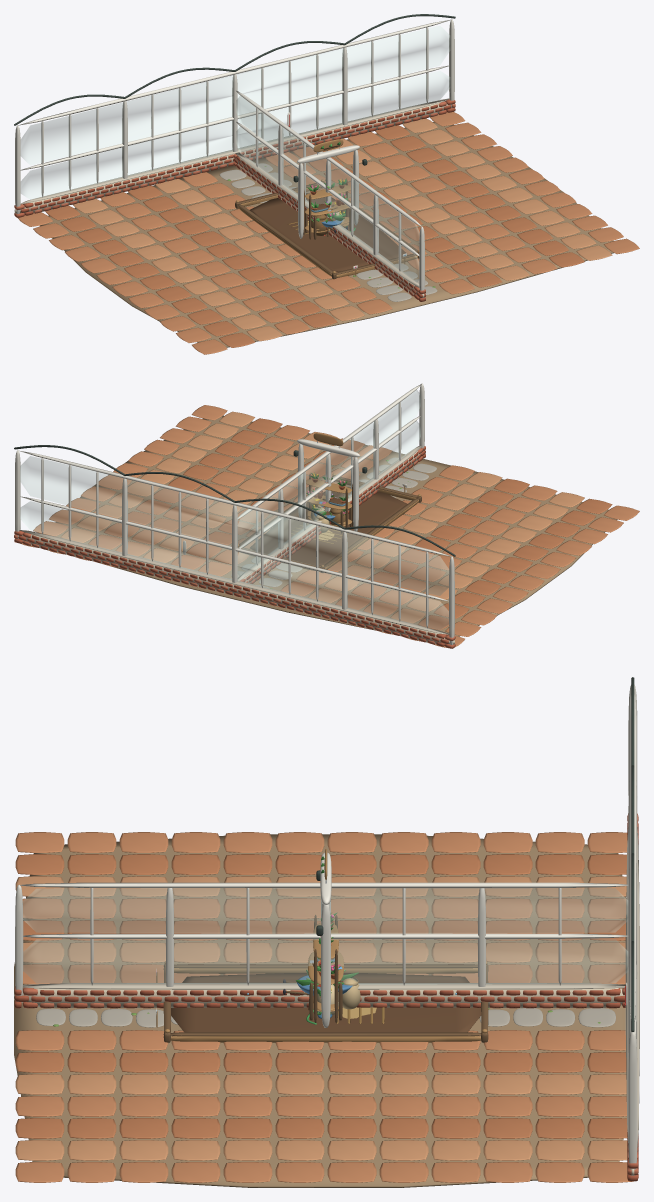
File: granja_invernadero.glb
3 views of the same model, one above another, from view 1: azimuth 30°, elevation 25°; view 2: azimuth 150°, elevation 25°; view 3: azimuth 270°, elevation 25° (orthographic). The views are drawn at different scales.
Parts seen in each view (by area): view 1: base piso, fondo alto vidrio, fondo bajo vidrio, lado alto vidrio, lado bajo vidrio, tierra cama, mortero fondo, remate murito, travesaño 3.18, travesaño 1.6, remate murito.001, travesaño 2.58 (+3 smaller); view 2: fondo alto vidrio, base piso, fondo bajo vidrio, lado alto vidrio, lado bajo vidrio, tierra cama, mortero fondo, remate murito, travesaño 3.18, travesaño 1.6, remate murito.001, travesaño 2.58 (+10 smaller); view 3: base piso, lado alto vidrio, lado bajo vidrio, tierra cama, mortero lado, travesaño 2.58, remate murito.001, travesaño 1.5, tabla larga 1, travesaño 3.18, remate murito, canto largo 1 (+155 smaller).
Part boxes in pixels (left/top/right/bottom): base piso: left=40, top=122, right=613, bottom=347; fondo alto vidrio: left=21, top=26, right=449, bottom=165; fondo bajo vidrio: left=21, top=71, right=449, bottom=199; lado alto vidrio: left=236, top=96, right=419, bottom=251; lado bajo vidrio: left=236, top=127, right=418, bottom=282; tierra cama: left=249, top=193, right=406, bottom=271; mortero fondo: left=14, top=102, right=451, bottom=213; remate murito: left=21, top=98, right=449, bottom=204; travesaño 3.18: left=18, top=19, right=451, bottom=125; travesaño 1.6: left=20, top=65, right=449, bottom=170; remate murito.001: left=235, top=152, right=419, bottom=287; travesaño 2.58: left=236, top=90, right=421, bottom=226; fondo alto vidrio: left=20, top=456, right=448, bottom=595; base piso: left=55, top=415, right=617, bottom=636; fondo bajo vidrio: left=20, top=501, right=448, bottom=629; lado alto vidrio: left=238, top=390, right=420, bottom=544; lado bajo vidrio: left=238, top=421, right=420, bottom=575; tierra cama: left=250, top=487, right=407, bottom=565; mortero fondo: left=21, top=534, right=454, bottom=644; remate murito: left=19, top=530, right=449, bottom=634; travesaño 3.18: left=18, top=450, right=451, bottom=556; travesaño 1.6: left=20, top=496, right=448, bottom=601; remate murito.001: left=237, top=445, right=422, bottom=580; travesaño 2.58: left=237, top=384, right=421, bottom=518; base piso: left=14, top=834, right=626, bottom=1187; lado alto vidrio: left=23, top=888, right=627, bottom=933; lado bajo vidrio: left=23, top=939, right=628, bottom=984; tierra cama: left=171, top=973, right=481, bottom=1032; mortero lado: left=14, top=988, right=624, bottom=1007; travesaño 2.58: left=18, top=882, right=628, bottom=888; remate murito.001: left=23, top=982, right=625, bottom=989; travesaño 1.5: left=23, top=933, right=628, bottom=939; tabla larga 1: left=171, top=1036, right=481, bottom=1042; travesaño 3.18: left=629, top=693, right=636, bottom=1021; remate murito: left=625, top=827, right=639, bottom=1148; canto largo 1: left=163, top=1032, right=488, bottom=1036.
Bounding box in the file's own units: 16.07 × 4.53 × 12.04.
